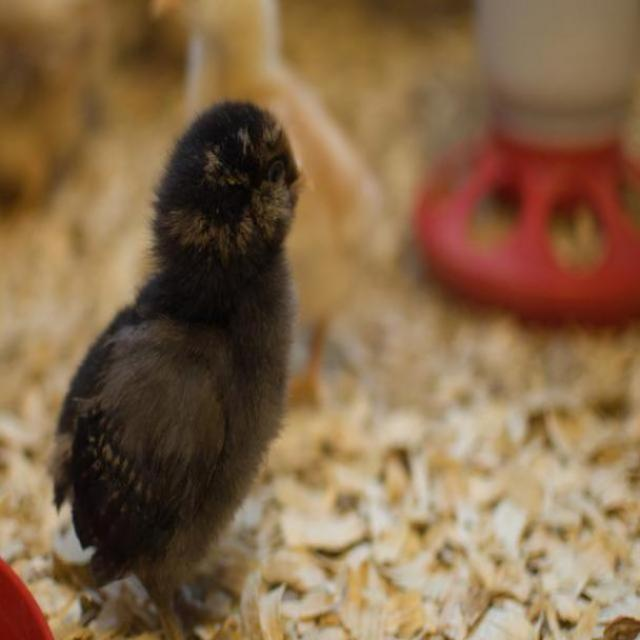Chicken: (54, 69, 303, 640)
